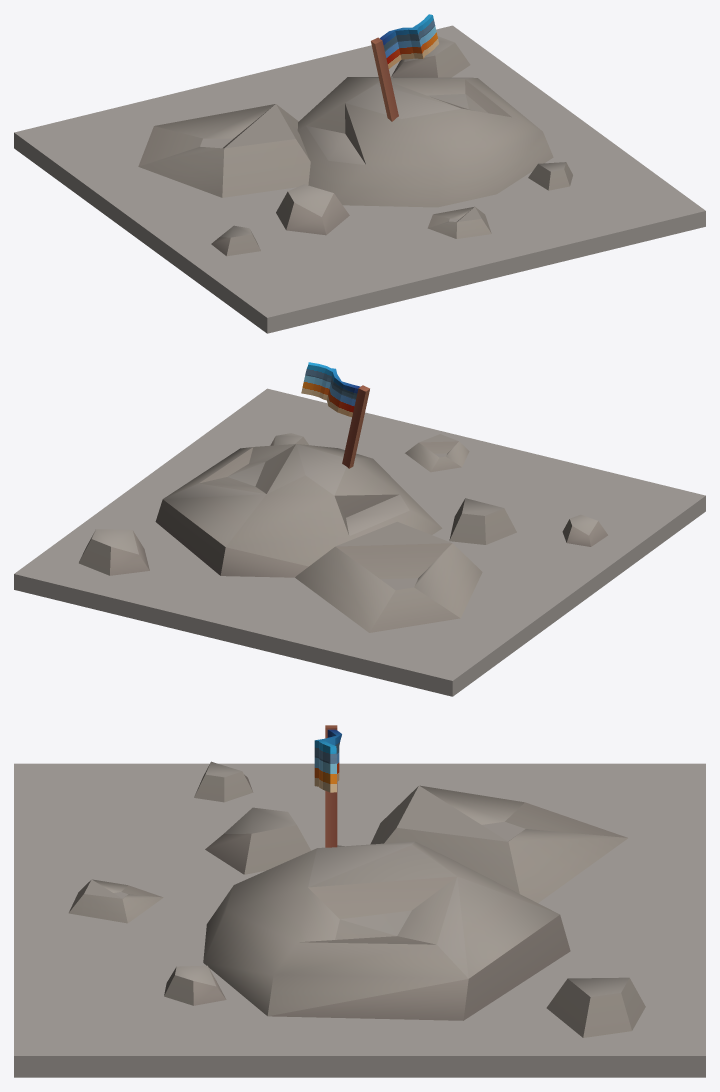
File: flag.glb
3 renders of one model, top to bottom at view 1: azimuth 30°, elevation 25°; view 2: azimuth 150°, elevation 25°; view 3: azimuth 270°, elevation 25°, orthographic. The views are drawn at different scales.
Visible parts, largest first — view 1: Flag; view 2: Flag; view 3: Flag.
Part boxes in pixels (x1=…): Flag: x1=14, y1=14, x2=705, y2=333; Flag: x1=14, y1=362, x2=705, y2=696; Flag: x1=14, y1=725, x2=705, y2=1077.
Bounding box in the file's own units: 0.29 × 0.1045 × 0.29.
1 material, 1 textured.
